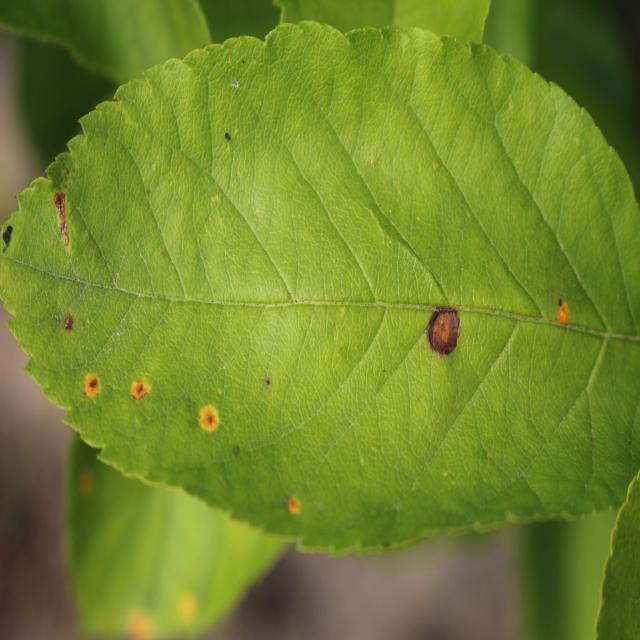Black Rot: (419, 275, 468, 371)
Rust: (75, 355, 111, 413), (120, 365, 158, 411), (195, 394, 223, 450), (550, 286, 575, 342), (278, 493, 316, 527)
